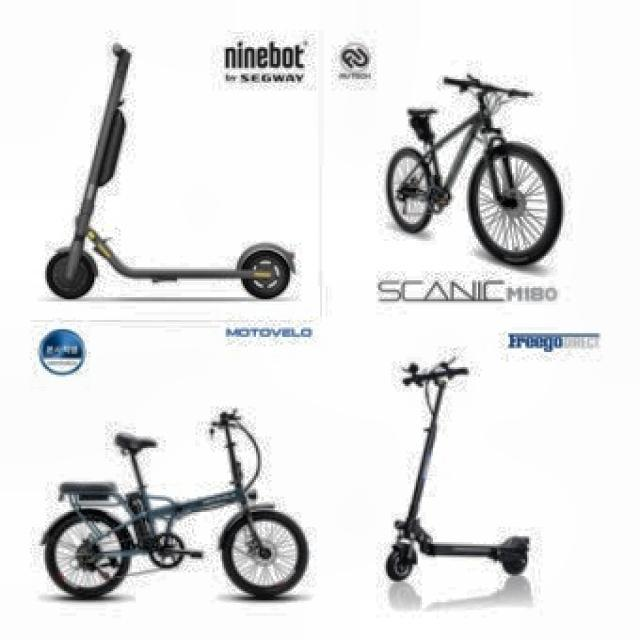bike: (41, 409, 310, 602), (385, 71, 563, 267)
